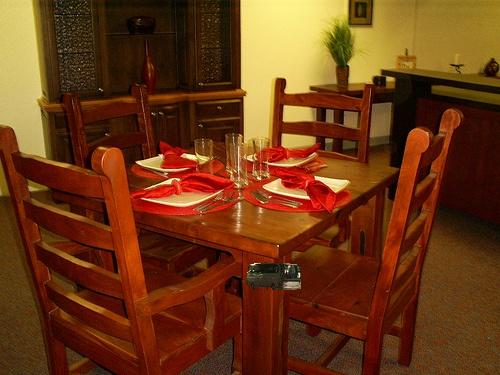tampered: (247, 263, 301, 290)
